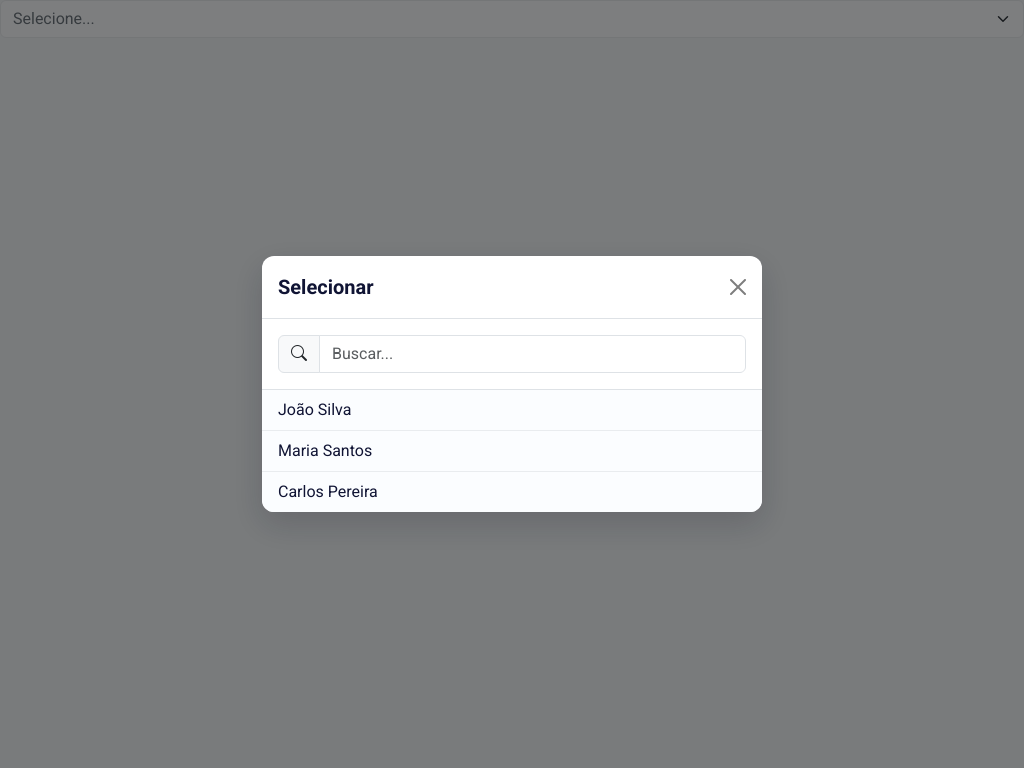
Test: SearchSelectComponent › closes modal on close button click
The width and height of the screenshot is (1024, 768).
Click the button with class "btn-close".
click(738, 287)  # box [722,271,754,303]
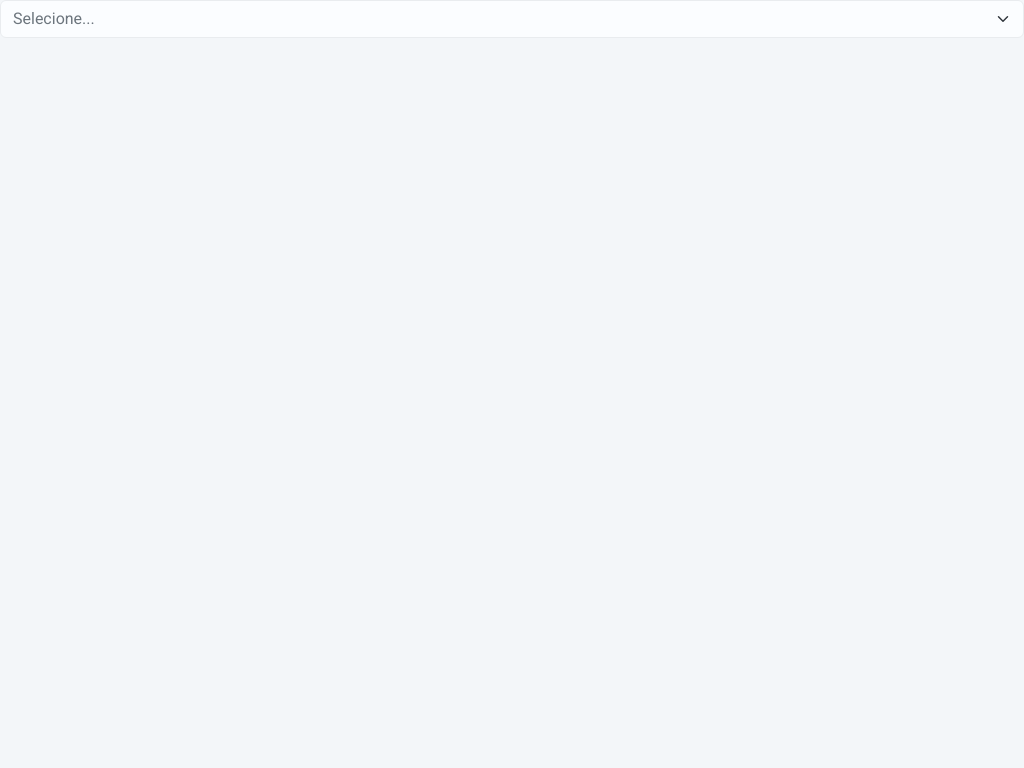
Expected: the dialog with class "modal" is gone
